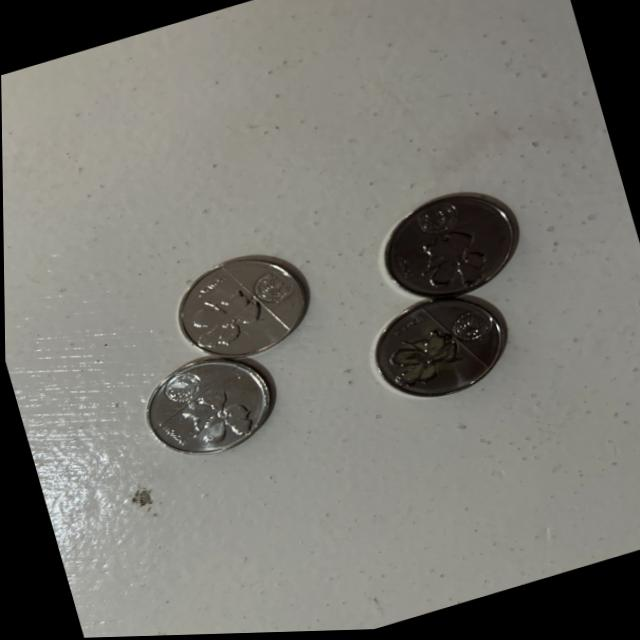25Cent_New_Back: (377, 315, 468, 400), (175, 371, 261, 458), (183, 278, 269, 357), (409, 219, 496, 295)
